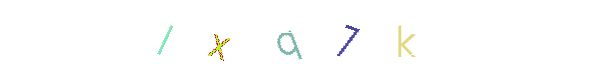7: (268, 0, 348, 80)
K: (337, 0, 417, 80)
L: (178, 0, 258, 80)
Q: (267, 0, 347, 80)
X: (219, 0, 299, 80)
